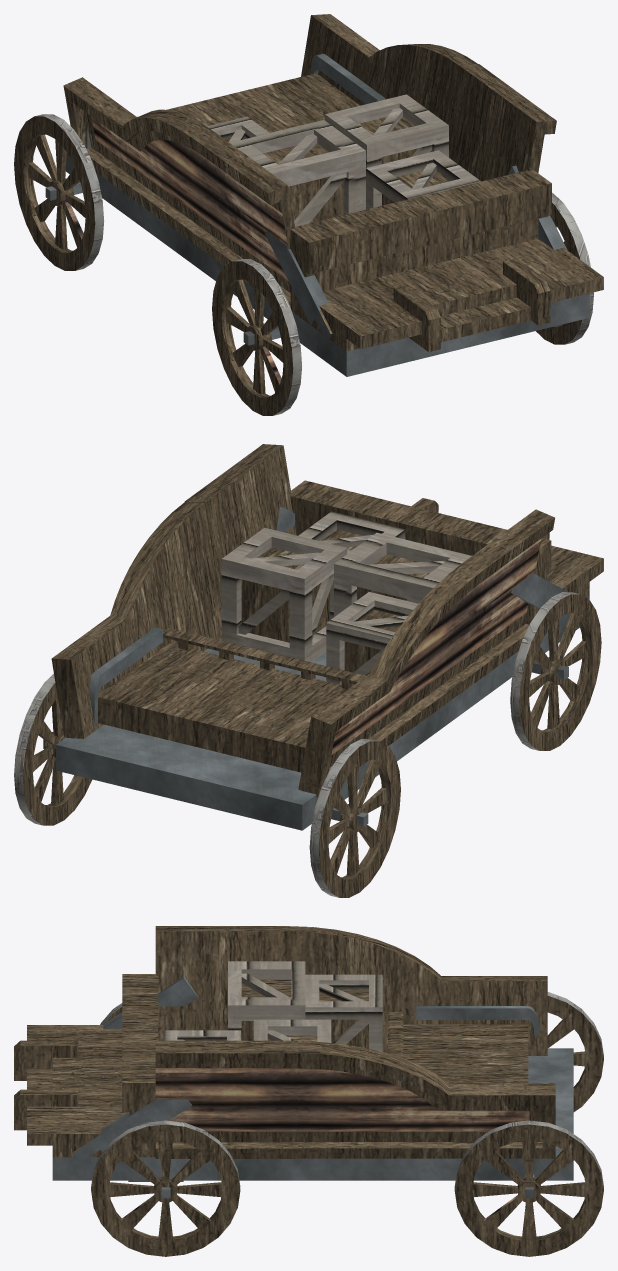
The model's file is Wagon.fbx.
3 views of the same model, one above another, from view 1: azimuth 30°, elevation 25°; view 2: azimuth 150°, elevation 25°; view 3: azimuth 270°, elevation 25° (orthographic). The views are drawn at different scales.
Visible parts, largest first — view 1: porch_floor (×4), sign_side (×2), detail_wagonWheel (×3), porch_floorSteps, detail_crate (×4), sign_center (×2), porch_floorCenter, detail_fence_side; view 2: sign_side (×2), porch_floor (×3), detail_crate (×4), detail_wagonWheel (×3), porch_floorCenter, sign_center (×2), detail_ladder, porch_floorSteps, detail_fence_side; view 3: sign_side (×2), detail_wagonWheel (×3), sign_center (×2), porch_floor (×4), detail_crate (×4), porch_floorSteps, porch_floorCenter, detail_fence_side, detail_ladder.
Boxes of the visible parts, box(x1,y1,x2,y2) form: porch_floor (×4): box(137, 73, 567, 341); sign_side (×2): box(63, 14, 477, 259); detail_wagonWheel (×3): box(14, 114, 593, 415); porch_floorSteps: box(290, 238, 603, 351); detail_crate (×4): box(207, 94, 480, 226); sign_center (×2): box(195, 64, 556, 306); porch_floorCenter: box(66, 153, 589, 376); detail_fence_side: box(310, 53, 385, 104); sign_side (×2): box(51, 502, 481, 797); porch_floor (×3): box(98, 480, 568, 772); detail_crate (×4): box(221, 511, 471, 684); detail_wagonWheel (×3): box(14, 592, 601, 897); porch_floorCenter: box(56, 595, 589, 830); sign_center (×2): box(184, 444, 554, 693); detail_ladder: box(163, 628, 365, 689); porch_floorSteps: box(411, 498, 603, 624); detail_fence_side: box(90, 627, 162, 724); sign_side (×2): box(290, 926, 555, 1158); detail_wagonWheel (×3): box(91, 992, 603, 1256); sign_center (×2): box(155, 926, 297, 1158); porch_floor (×4): box(72, 974, 528, 1162); detail_crate (×4): box(163, 961, 382, 1051); porch_floorSteps: box(14, 1025, 155, 1157); porch_floorCenter: box(52, 1048, 573, 1180); detail_fence_side: box(416, 1006, 539, 1035); detail_ladder: box(388, 1012, 403, 1058).
Bounding box in the file's own units: 13 × 8.83 × 22.88.
Materials: 5 (5 with a texture image).
